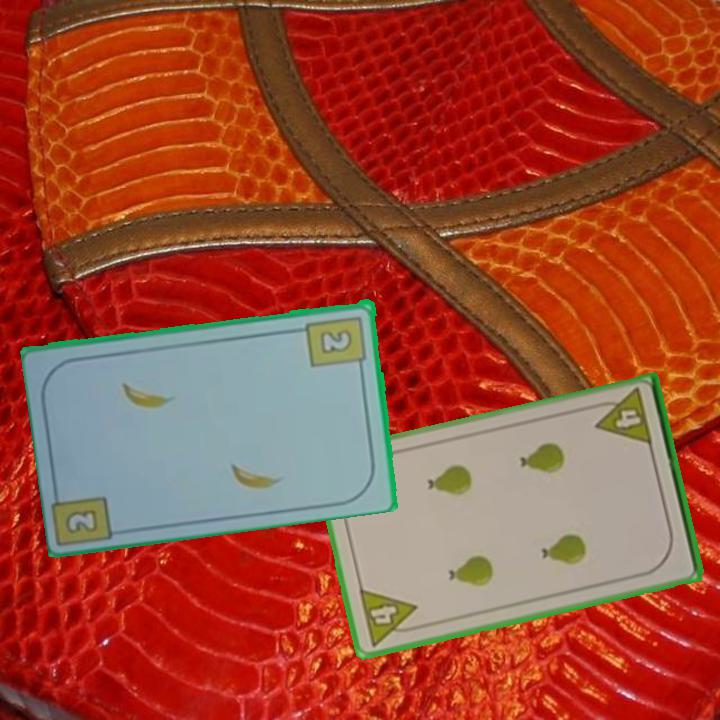2b: (303, 312, 370, 373), (61, 505, 102, 537)
4p: (355, 585, 424, 649), (588, 385, 655, 449)
